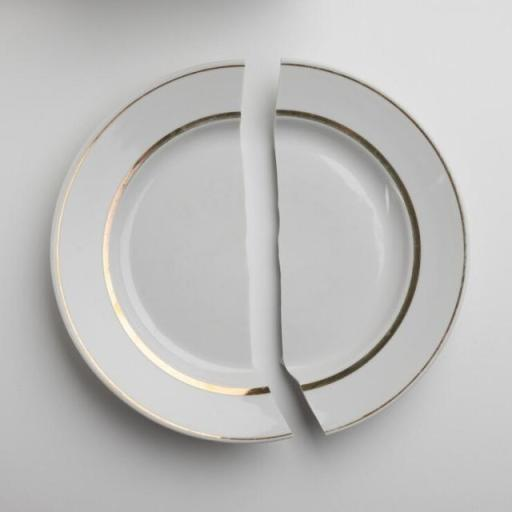glass: (258, 47, 478, 456), (48, 63, 284, 439)
